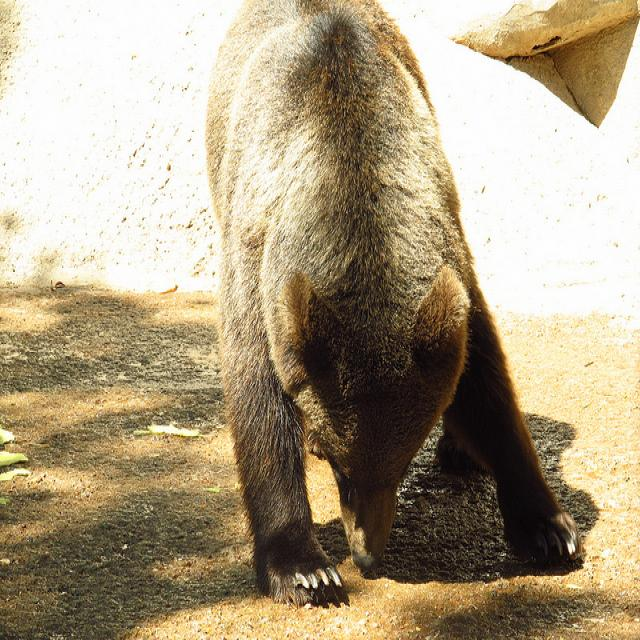Bear: (195, 0, 592, 593)
